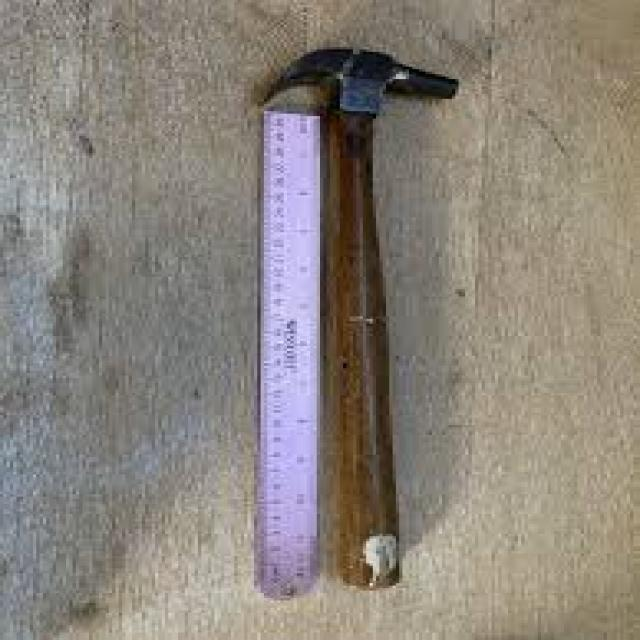hammer: (247, 37, 472, 596)
